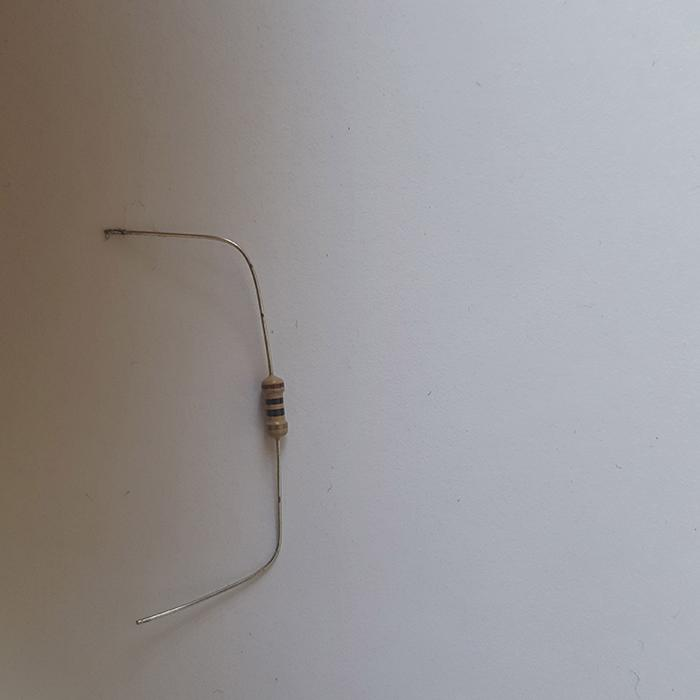resistor: (260, 372, 288, 439)
